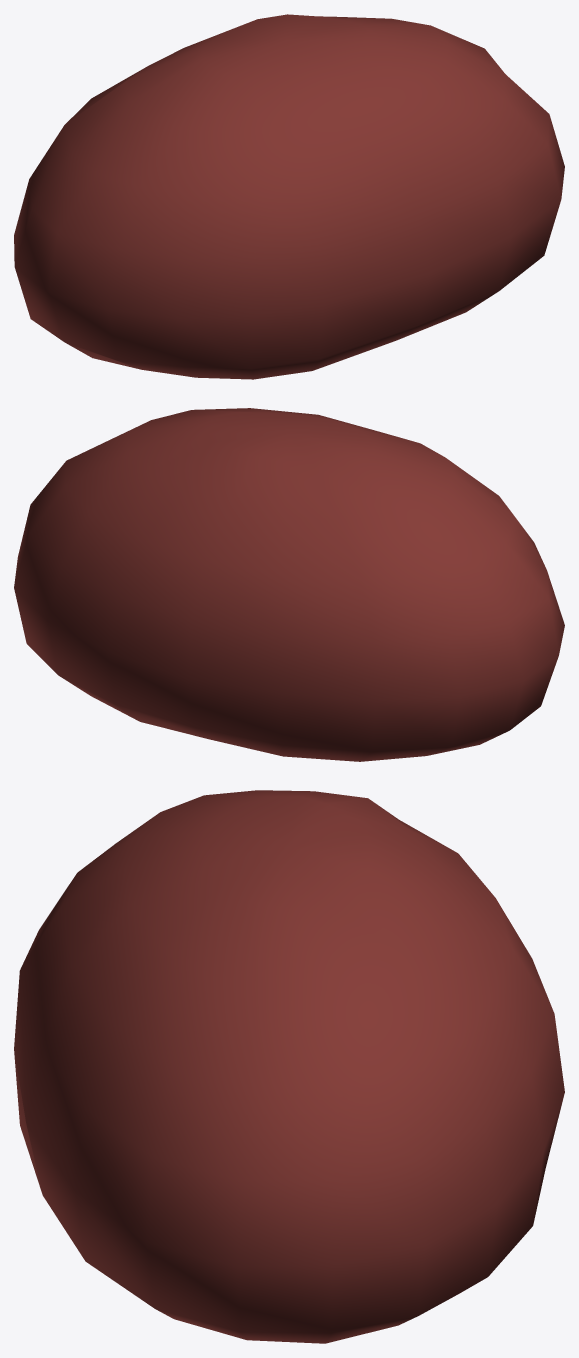
The model's file is gale_ram_kidney.glb.
3 views of the same model, one above another, from view 1: azimuth 30°, elevation 25°; view 2: azimuth 150°, elevation 25°; view 3: azimuth 270°, elevation 25° (orthographic). The views are drawn at different scales.
Parts seen in each view (by area): view 1: gale_ram_kidney; view 2: gale_ram_kidney; view 3: gale_ram_kidney.
Part boxes in pixels (x1,y1,x2,y2): gale_ram_kidney: [14, 14, 564, 379]; gale_ram_kidney: [14, 408, 564, 761]; gale_ram_kidney: [14, 790, 564, 1343].
Size of the model in its own units: 0.06 by 0.03 by 0.04.
